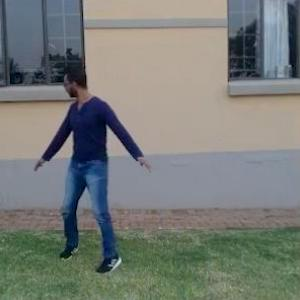land: (28, 53, 149, 262)
